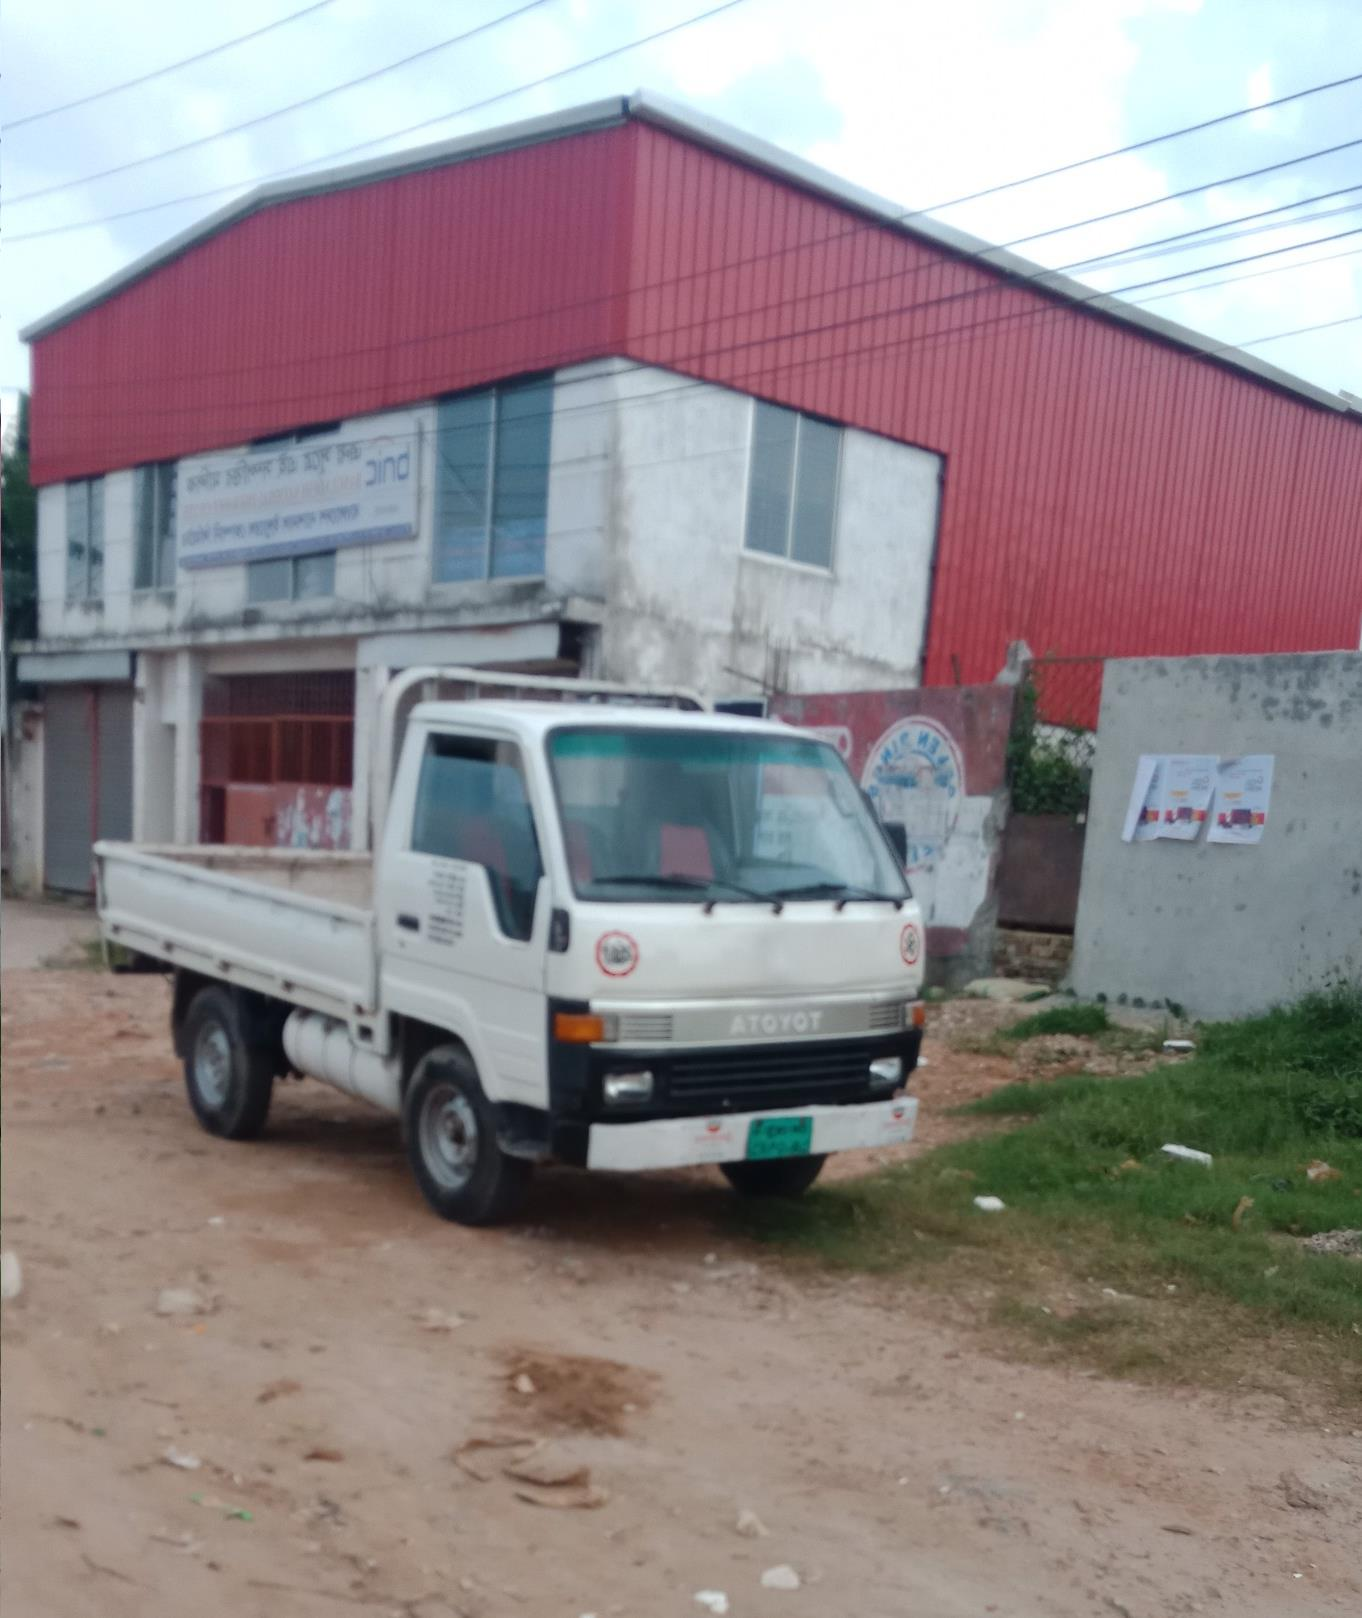truck: (109, 660, 943, 1199)
